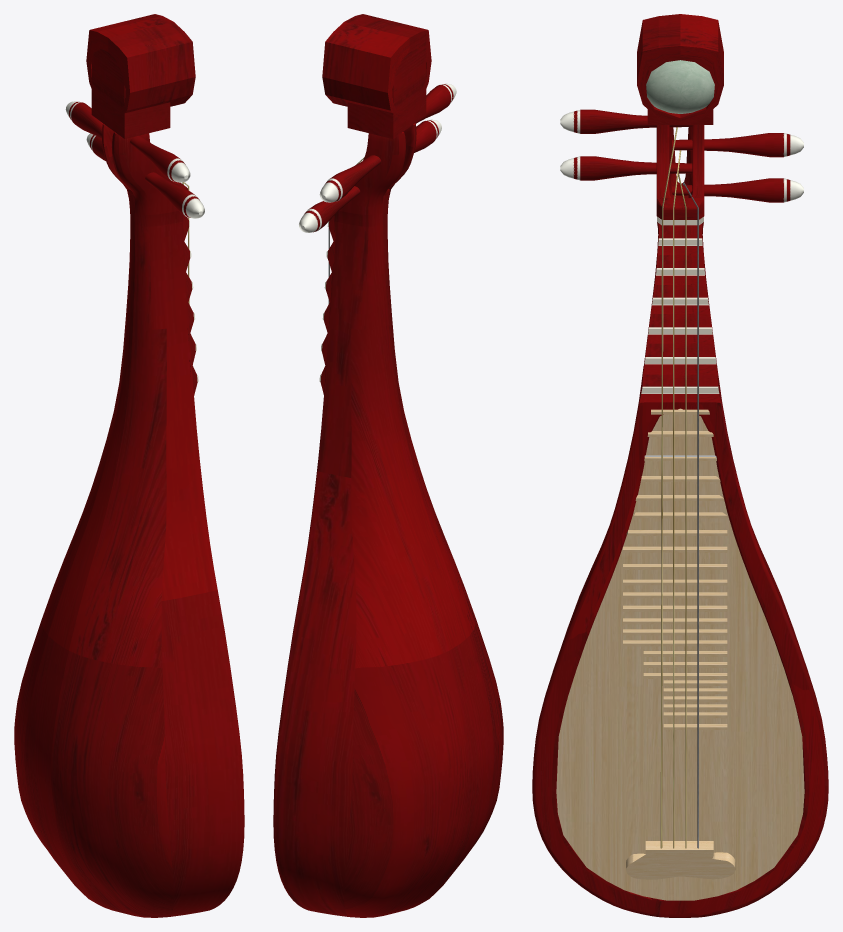
Rendered from pipa_big.fbx.
3 renders of one model, left to right at view 1: azimuth 30°, elevation 25°; view 2: azimuth 150°, elevation 25°; view 3: azimuth 270°, elevation 25°, orthographic.
Visible parts, largest first — view 1: pCube1, pPipe1, pCube31, pCylinder4, pCylinder13, pCylinder14; view 2: pCube1, pPipe1, pCube31, pCylinder14, pCylinder15, pCylinder4, pCylinder13; view 3: pCube2, pCube1, pPipe1, polySurface1, pSphere1, pCylinder14, pCylinder13, pCylinder15, pCylinder4, pCube32, pCube29, pCylinder5 (+17 smaller).
Part boxes in pixels (box(x1,y1,x2,y2)): pCube1: box(14, 123, 244, 917); pPipe1: box(86, 14, 195, 118); pCube31: box(91, 44, 170, 138); pCylinder4: box(130, 136, 190, 182); pCylinder13: box(145, 172, 204, 218); pCylinder14: box(65, 101, 102, 138); pCube1: box(273, 123, 503, 917); pPipe1: box(322, 14, 431, 118); pCube31: box(347, 32, 426, 138); pCylinder14: box(319, 155, 381, 202); pCylinder15: box(299, 186, 360, 232); pCylinder4: box(415, 83, 456, 123); pCylinder13: box(414, 119, 441, 152); pCube2: box(556, 414, 804, 900); pCube1: box(532, 125, 828, 917); pPipe1: box(637, 14, 723, 124); polySurface1: box(626, 841, 735, 879); pSphere1: box(646, 60, 714, 113); pCylinder14: box(672, 133, 803, 157); pCylinder13: box(560, 156, 692, 180); pCylinder15: box(672, 178, 803, 202); pCylinder4: box(560, 109, 692, 133); pCube32: box(643, 339, 718, 376); pCube29: box(639, 366, 721, 403); pCylinder5: box(660, 127, 677, 848).
Size of the model in its own units: 21.53 by 122 by 37.61.
